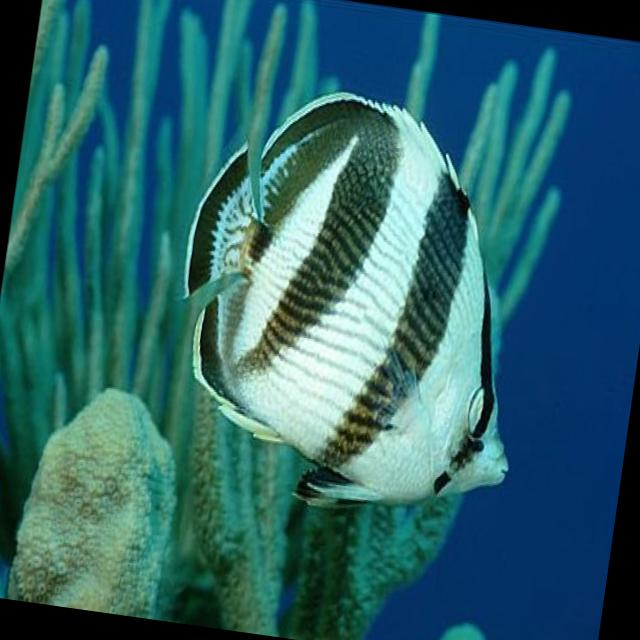ButterflyFish: (154, 68, 559, 531)
